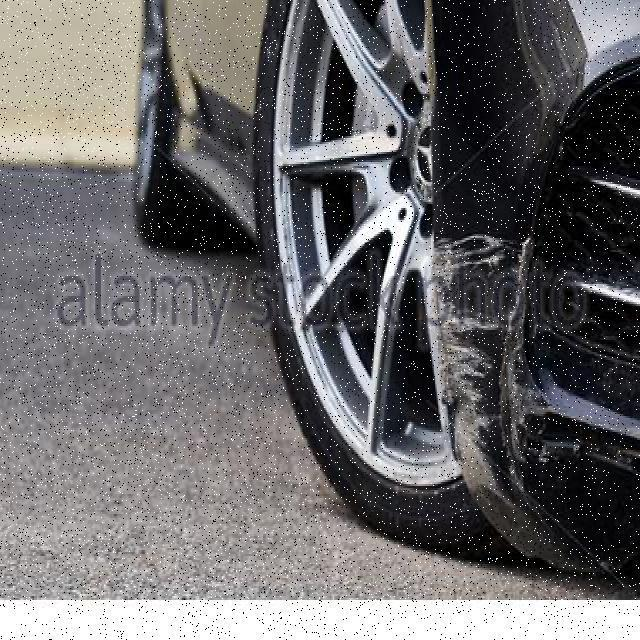front-bumper-dent: (412, 72, 638, 602)
